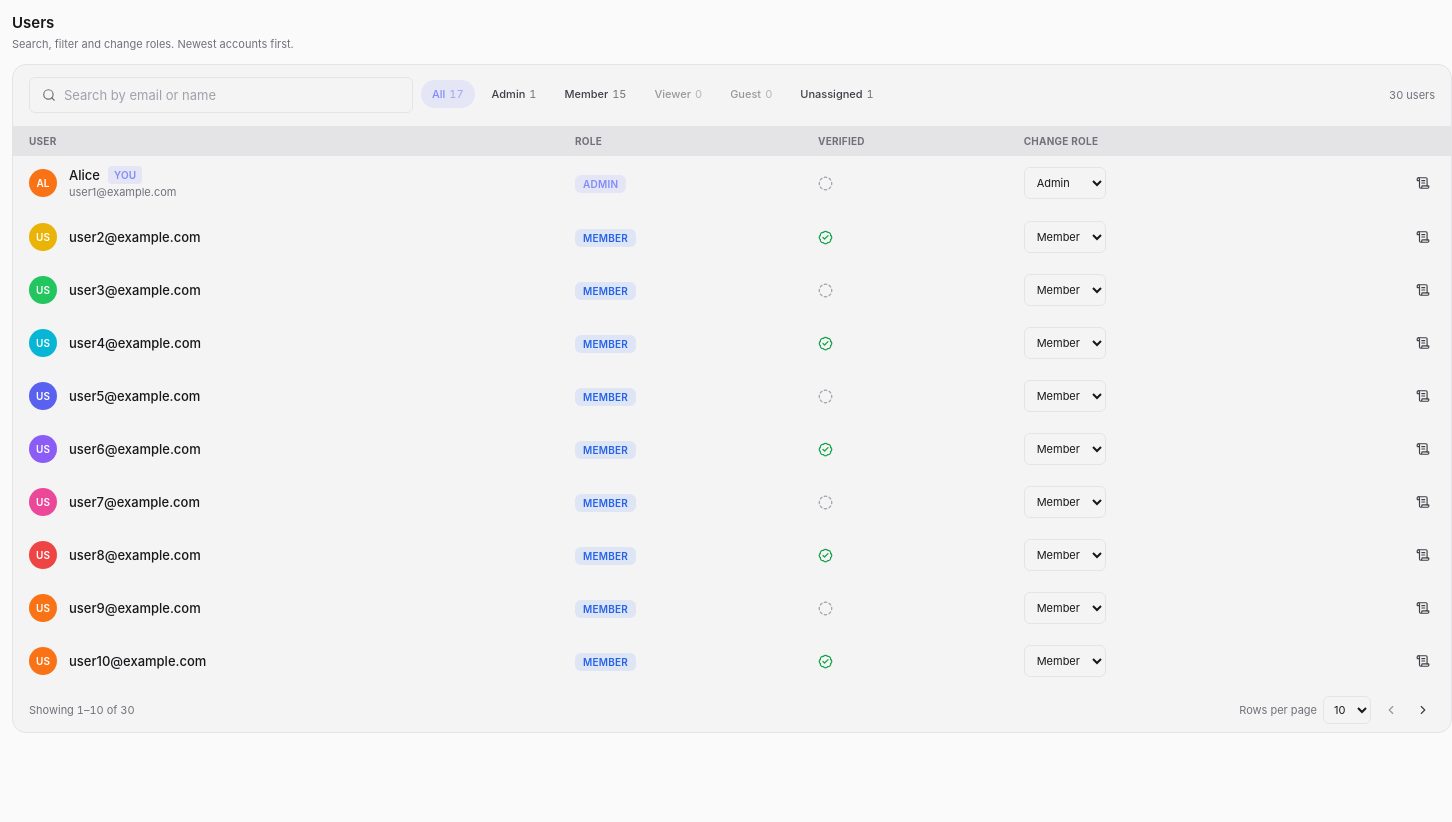
Test case: UsersSection › takes the server at its word that no page follows, whatever the count says
The width and height of the screenshot is (1452, 822).
Expected: the text "user2@example.com" is shown, 69,228 -> 201,246
Click the button named "Next page". click: [1423, 710]
box: 1411,698 -> 1435,722
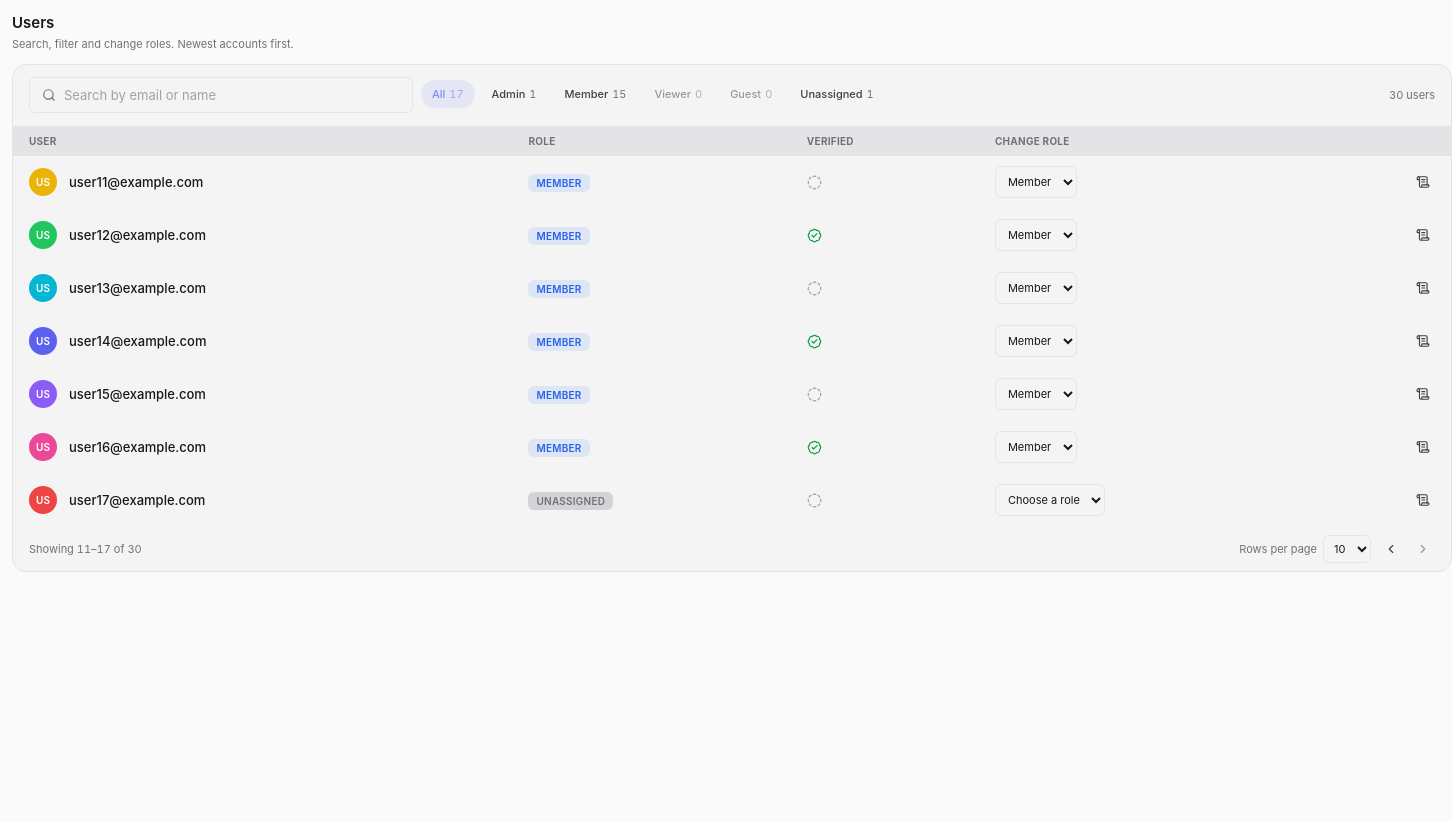
Now the text "user17@example.com" is shown, box 69,491 -> 205,509
Now the button named "Next page" is disabled, box 1411,537 -> 1435,561
